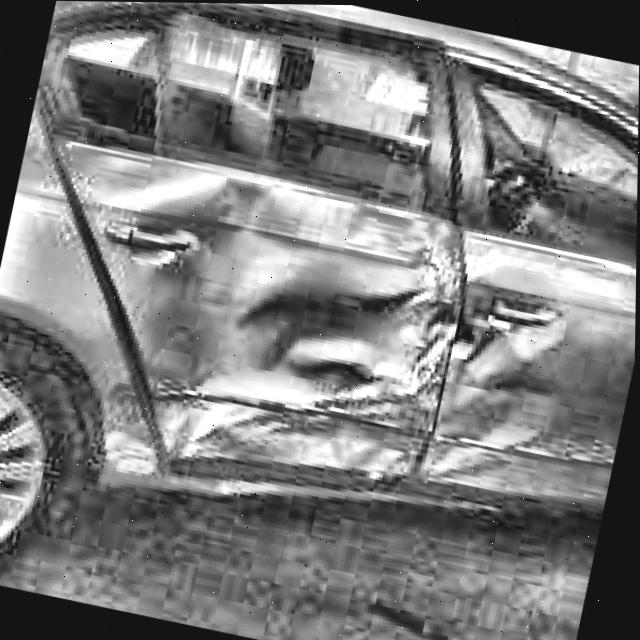door_dent: (90, 165, 587, 570)
